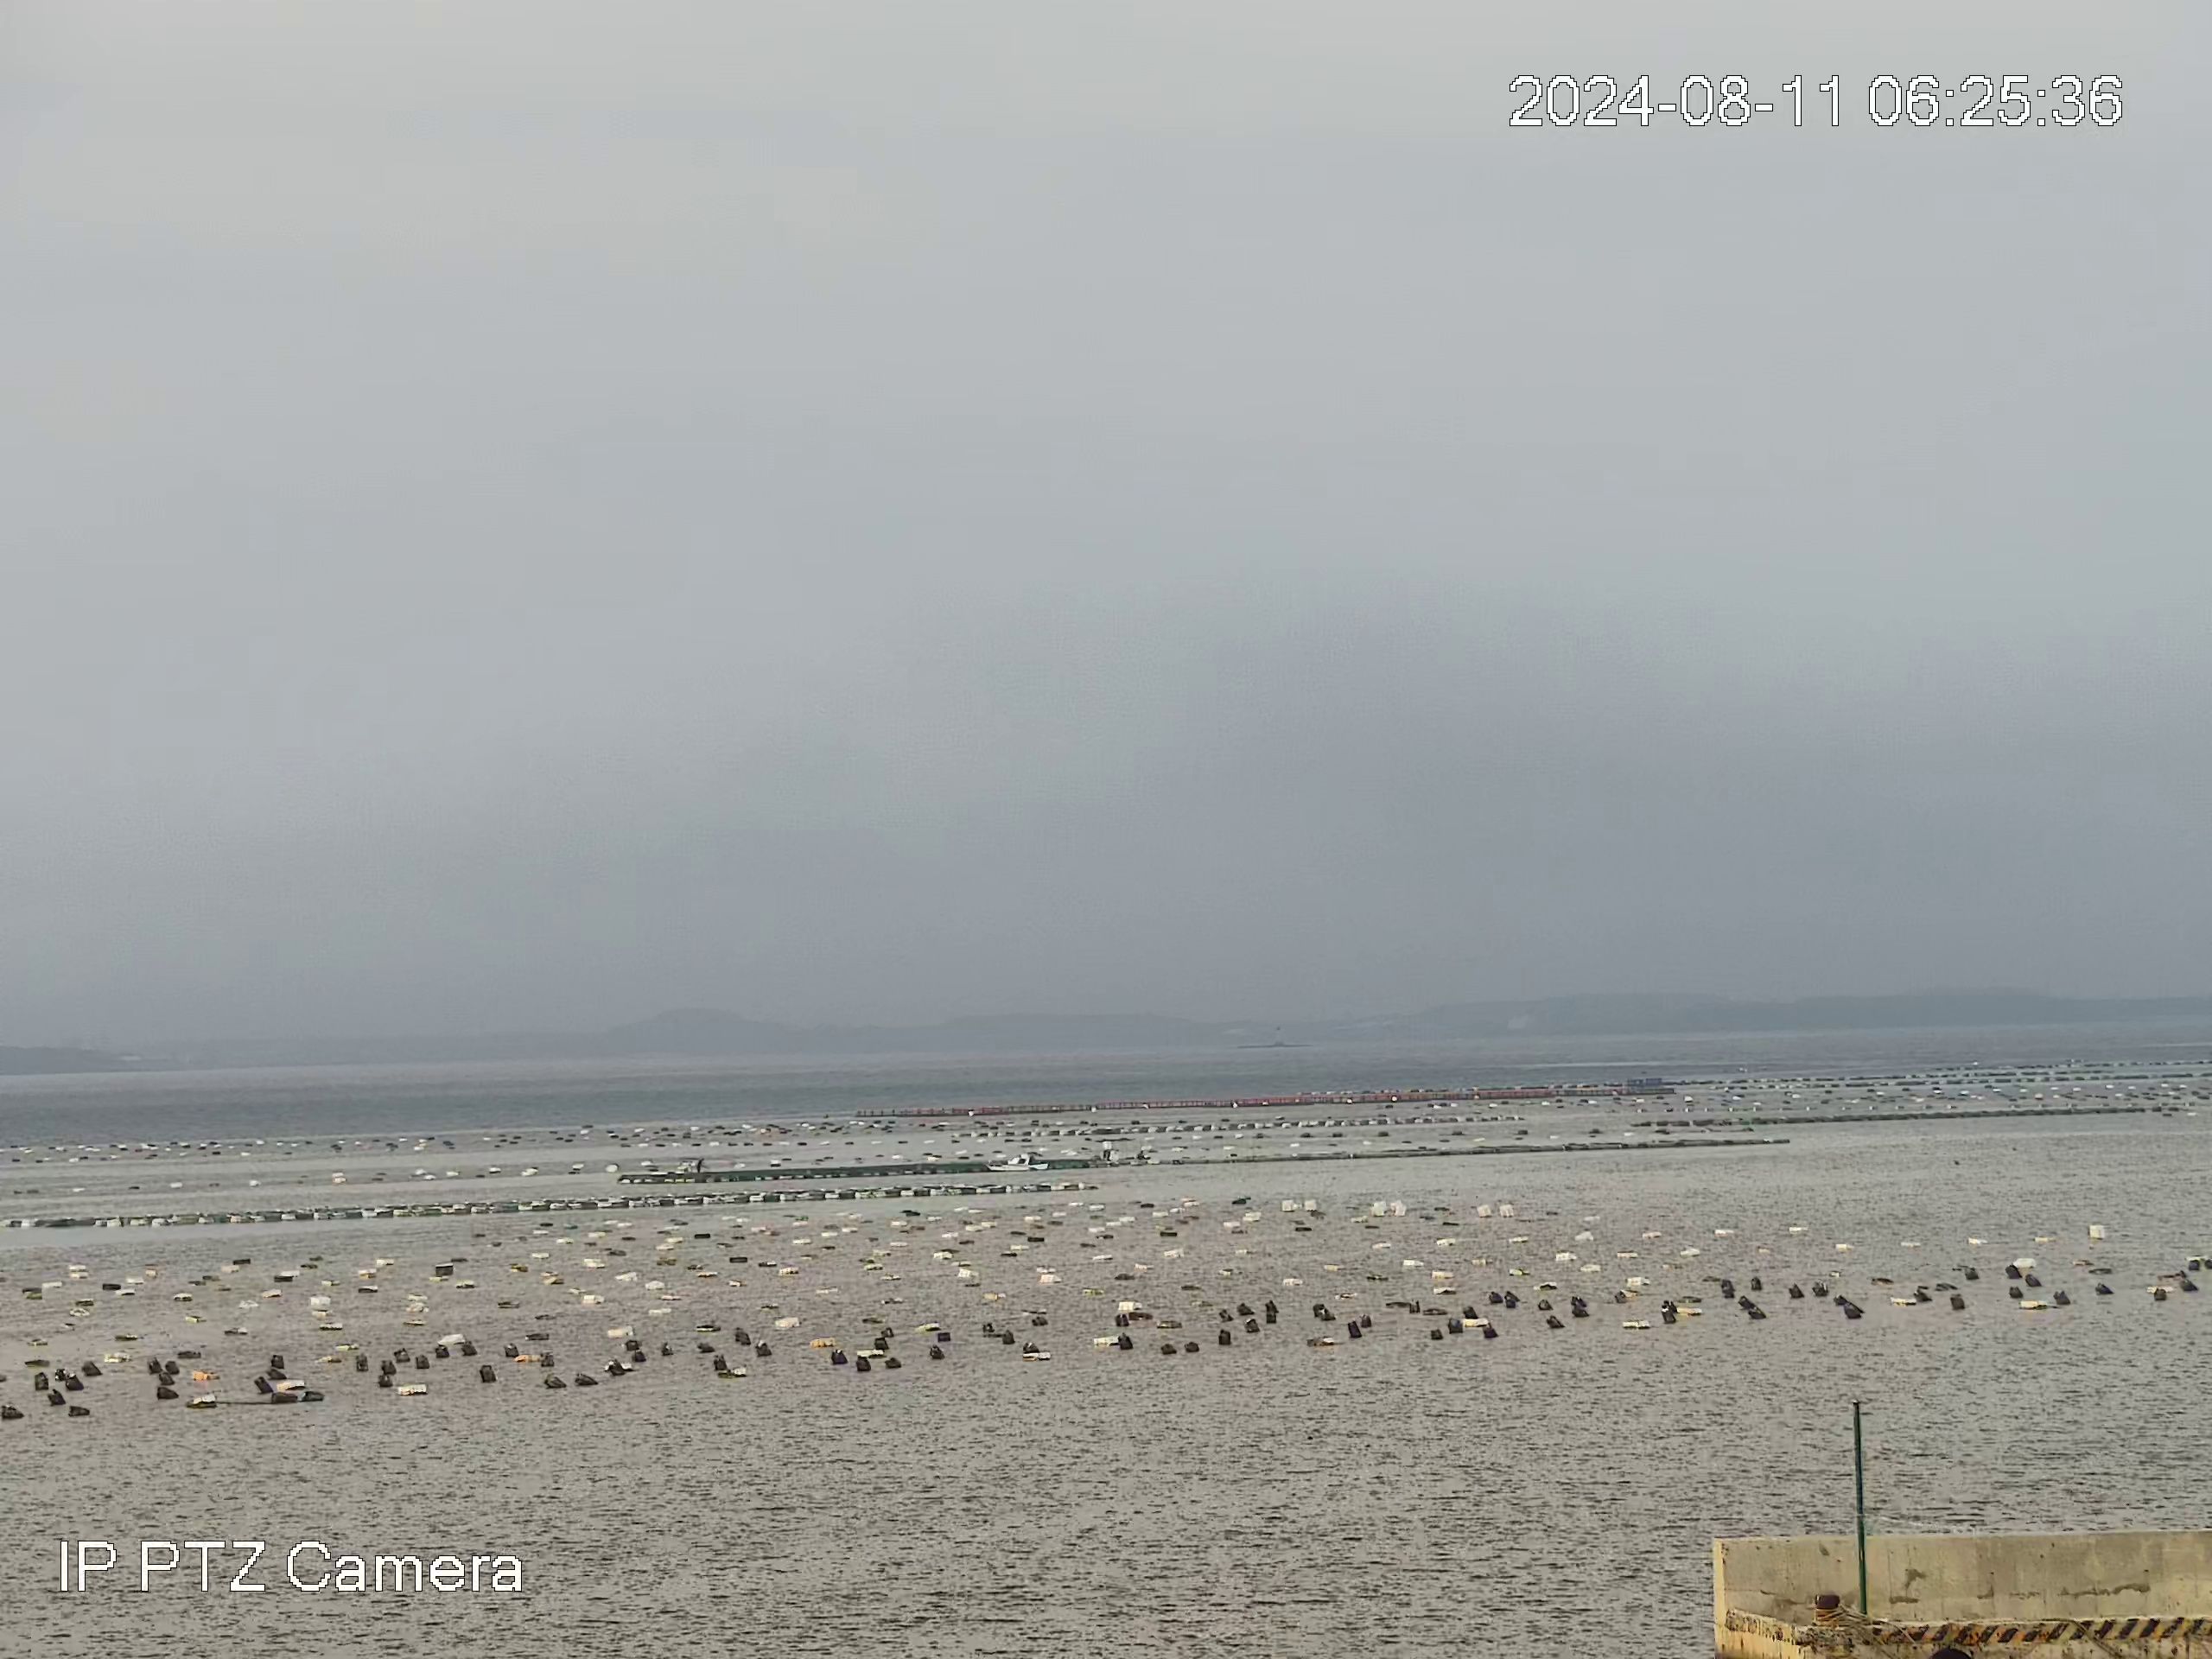boat: (984, 1150, 1050, 1175)
